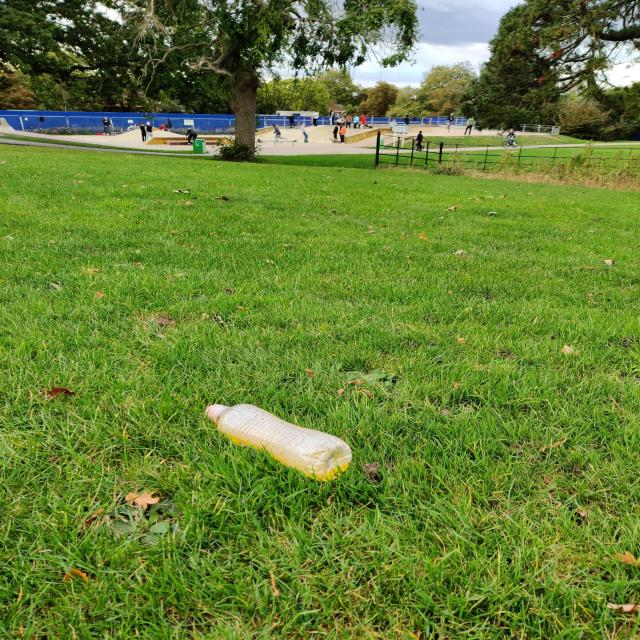litter: (198, 398, 347, 478)
